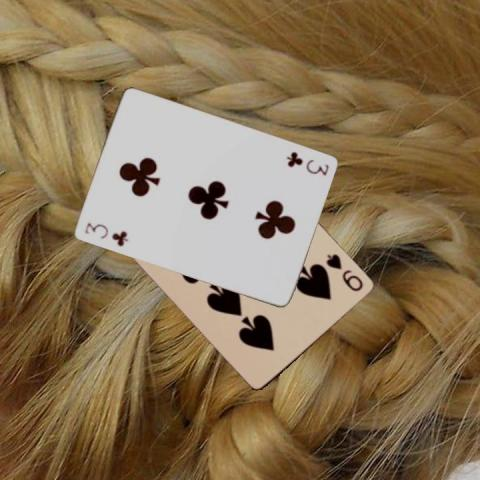3c: (82, 219, 130, 248), (283, 148, 330, 176)
9s: (324, 251, 365, 293)
